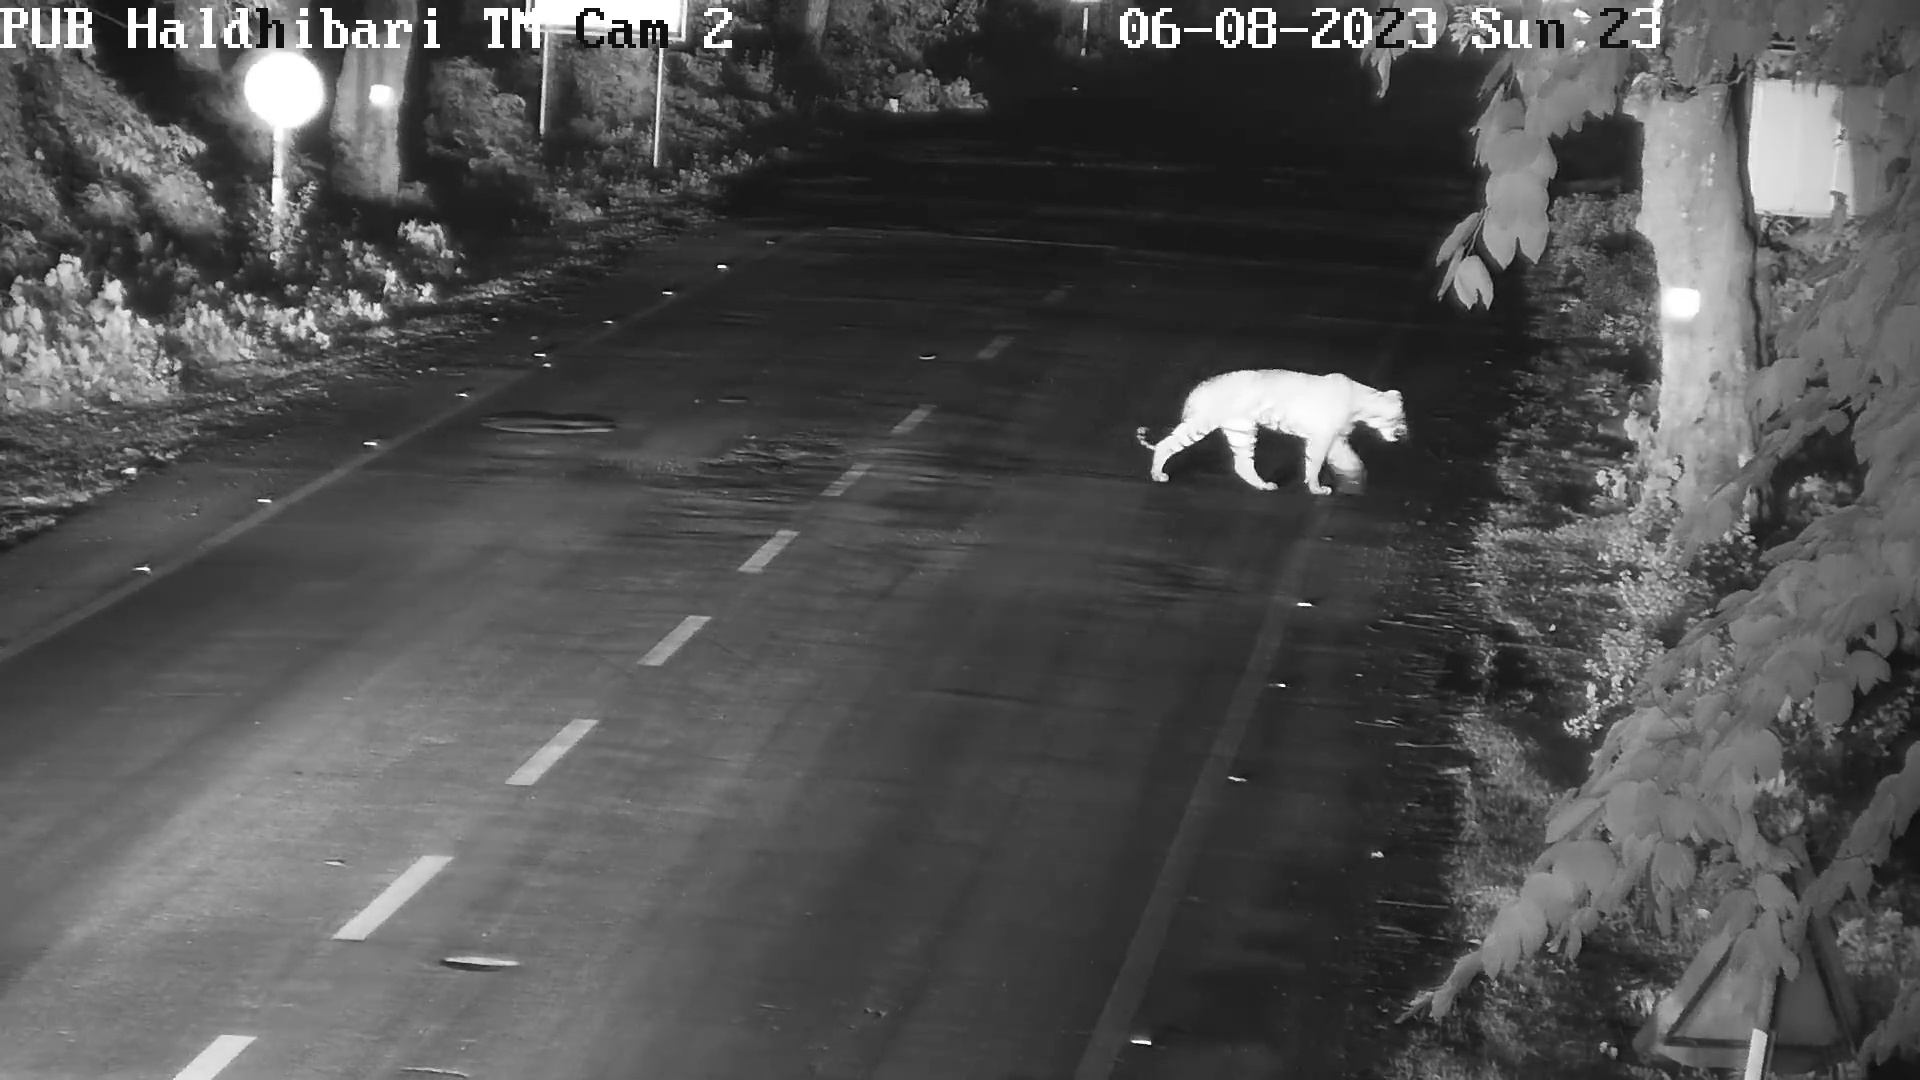tigers: (1130, 361, 1408, 496)
